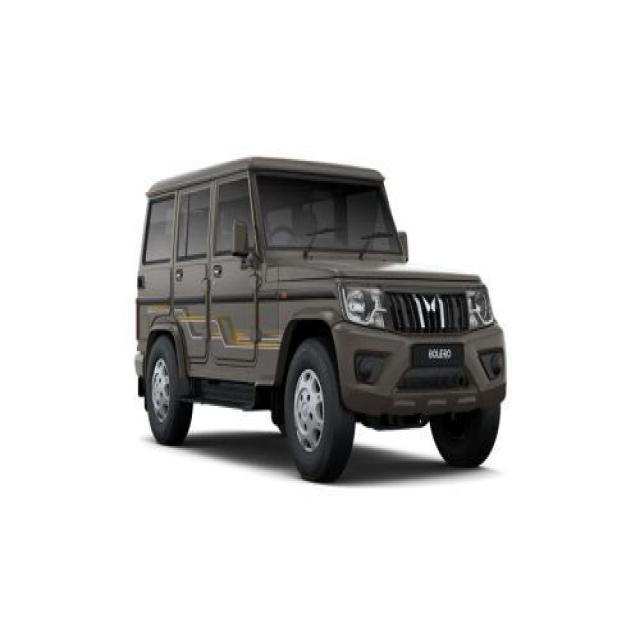light_vehicle: (133, 154, 504, 480)
